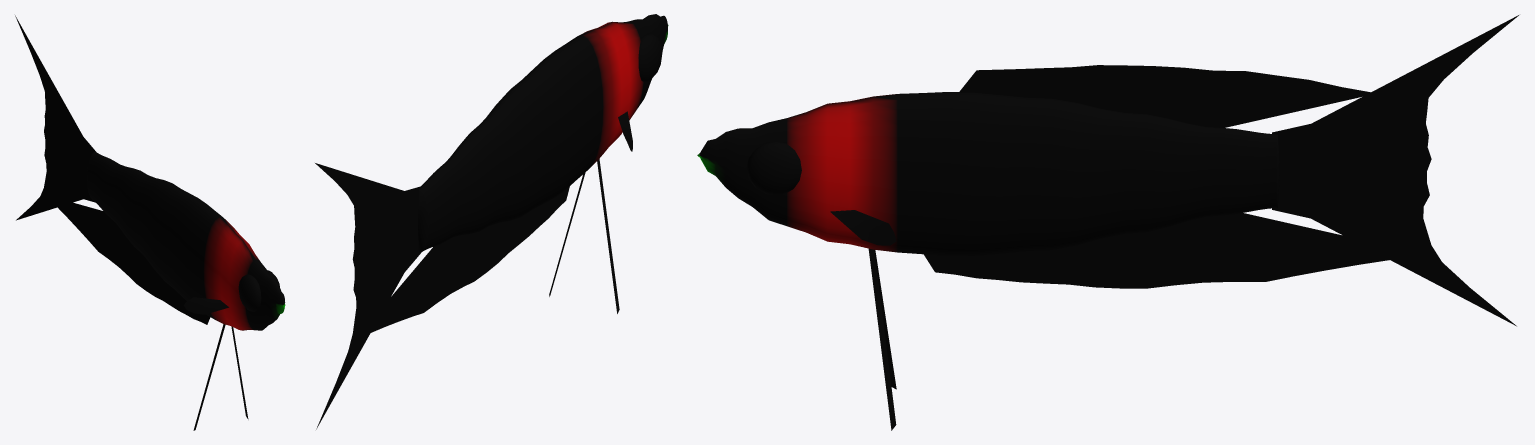
The model's file is paradise-fish.glb.
3 views of the same model, side by side, from view 1: azimuth 30°, elevation 25°; view 2: azimuth 150°, elevation 25°; view 3: azimuth 270°, elevation 25° (orthographic). The views are drawn at different scales.
Visible parts, largest first — view 1: paradise_body, paradise_caudal, paradise_anal, paradise_eyeL, paradise_pectoralL, paradise_pelvicL; view 2: paradise_body, paradise_caudal, paradise_anal, paradise_eyeL, paradise_pelvicL; view 3: paradise_body, paradise_caudal, paradise_anal, paradise_dorsal, paradise_eyeR, paradise_pectoralR, paradise_pelvicR.
Boxes of the visible parts, x1,y1,x2,y2 form: paradise_body: (87,152,285,330); paradise_caudal: (15,15,96,220); paradise_anal: (47,195,210,324); paradise_eyeL: (238,274,261,311); paradise_pectoralL: (184,297,228,314); paradise_pelvicL: (193,324,225,430); paradise_body: (418,14,668,252); paradise_caudal: (315,163,421,429); paradise_anal: (357,186,569,337); paradise_eyeL: (638,33,662,82); paradise_pelvicL: (597,159,619,313); paradise_body: (697,92,1279,256); paradise_caudal: (1272,15,1518,326); paradise_anal: (924,213,1418,288); paradise_dorsal: (959,65,1374,127); paradise_eyeR: (746,142,801,194); paradise_pectoralR: (830,210,896,245); paradise_pelvicR: (868,248,896,430).
Bounding box in the file's own units: 0.2195 × 0.7544 × 1.42.
